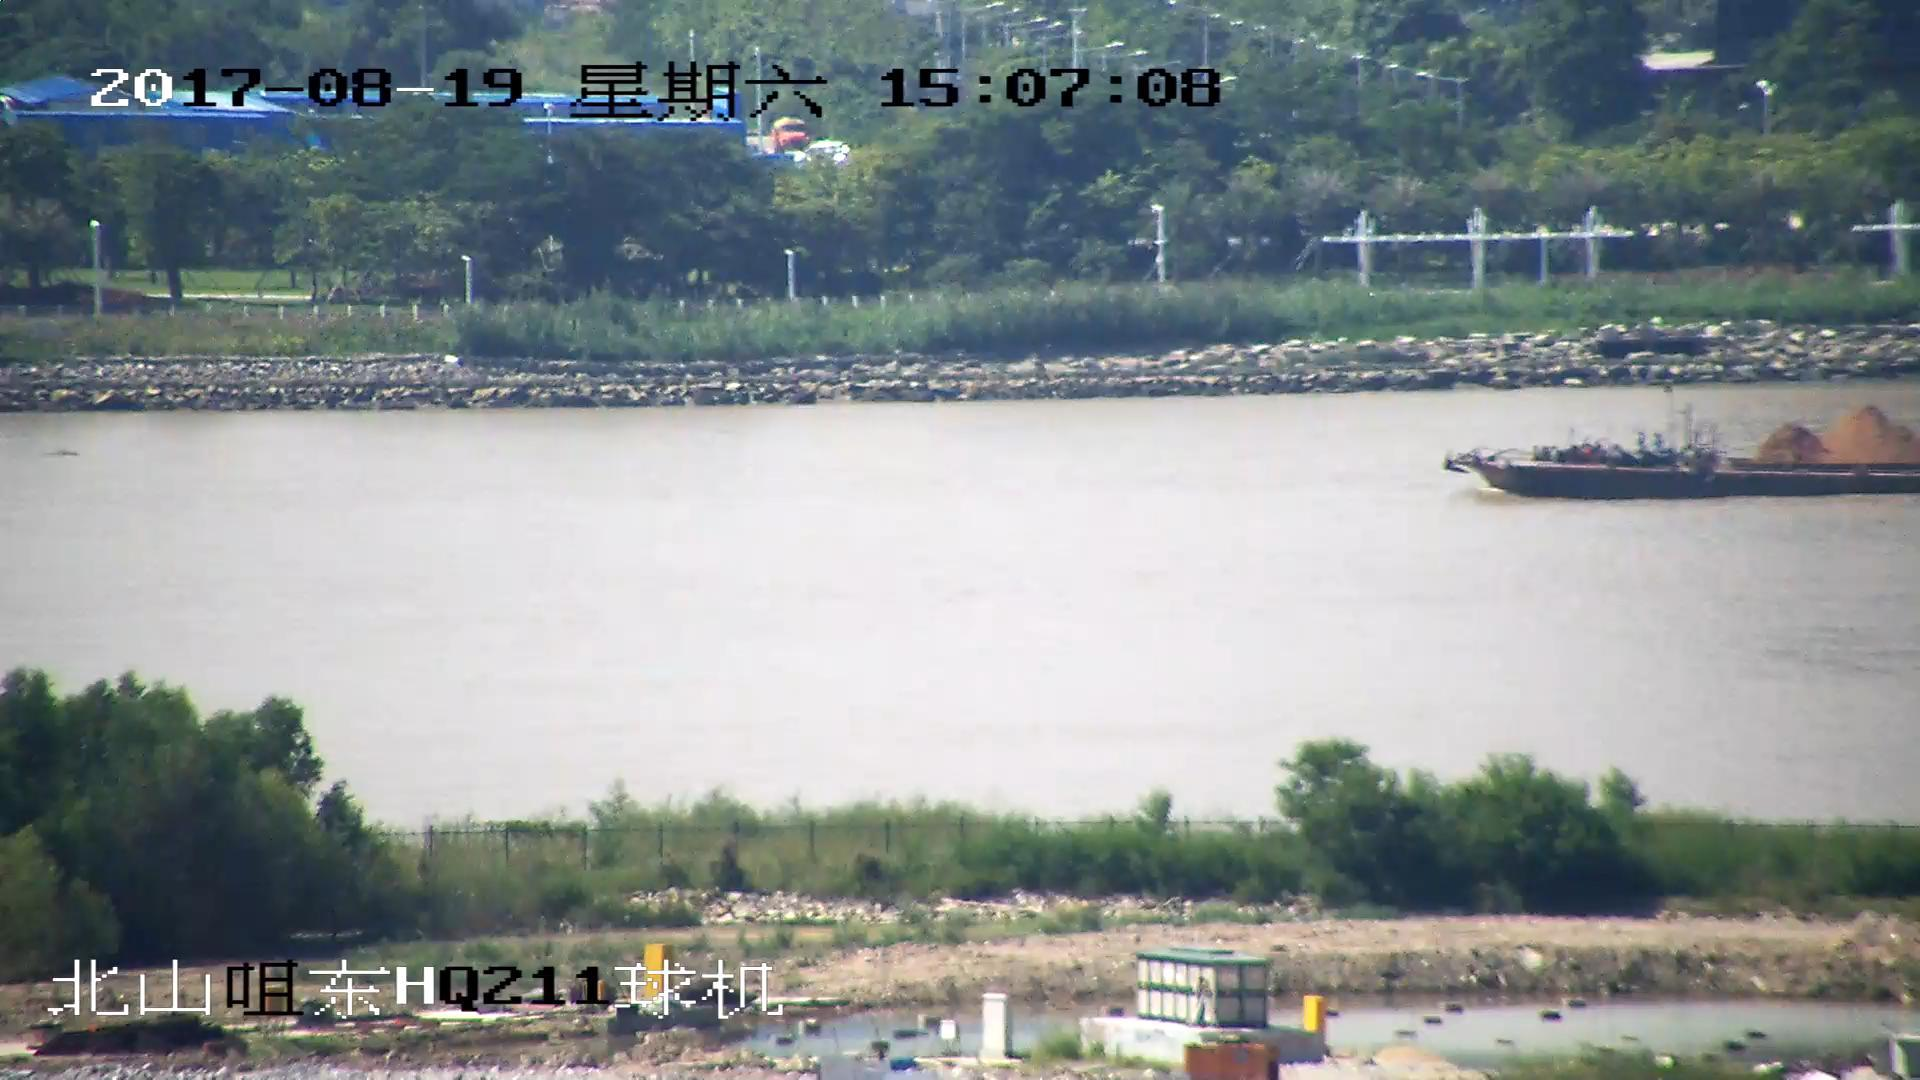Ship: (1451, 406, 1920, 502)
